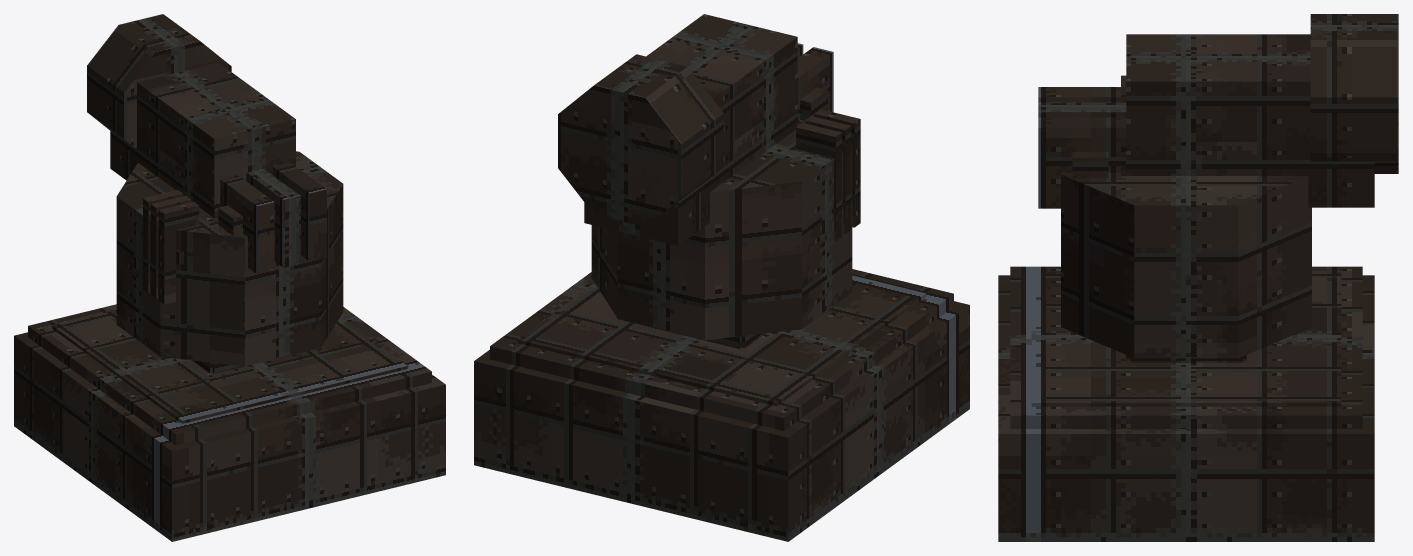
Rendered from enemy_role_artillery.glb.
3 views of the same model, side by side, from view 1: azimuth 30°, elevation 25°; view 2: azimuth 150°, elevation 25°; view 3: azimuth 270°, elevation 25° (orthographic). The views are drawn at different scales.
Visible parts, largest first — view 1: enemy_role_artillery; view 2: enemy_role_artillery; view 3: enemy_role_artillery.
Part boxes in pixels (box(x1,y1,x2,y2)): enemy_role_artillery: box(14, 14, 445, 541); enemy_role_artillery: box(474, 14, 969, 541); enemy_role_artillery: box(998, 14, 1398, 541).
Bounding box in the file's own units: 1.18 × 1.5 × 1.25.
Materials: 4 (4 with a texture image).
